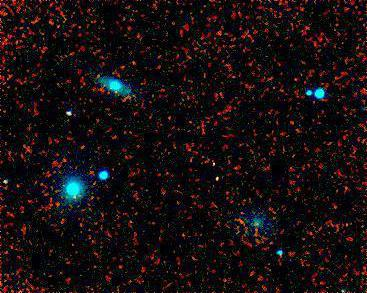star: (204, 152, 234, 182)
